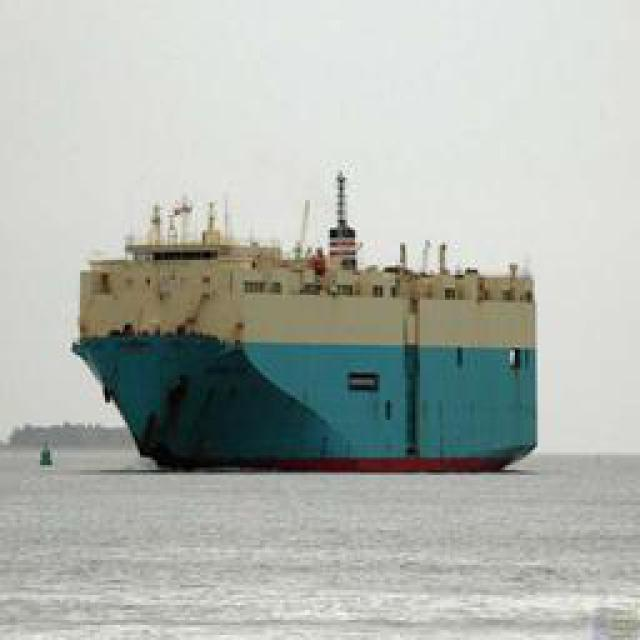Ship: (69, 167, 542, 470)
